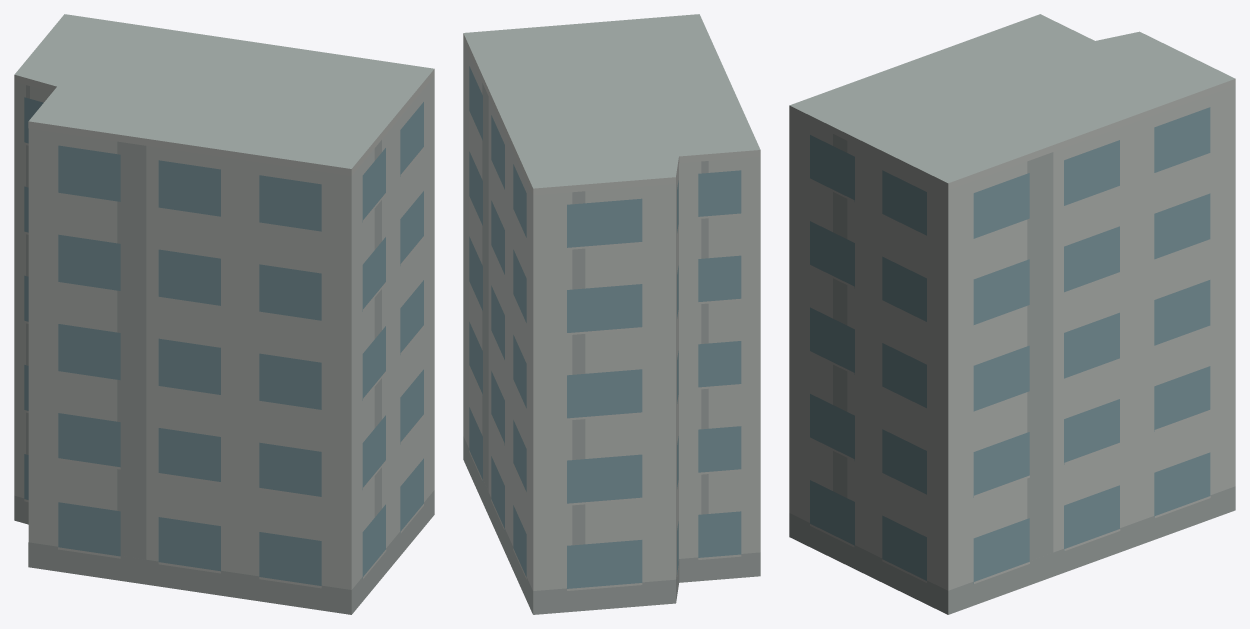
The model's file is residential-4c5bf3e3-13e4-4615-8bed-b4331600ca7f.glb.
3 views of the same model, side by side, from view 1: azimuth 30°, elevation 25°; view 2: azimuth 150°, elevation 25°; view 3: azimuth 270°, elevation 25° (orthographic). The views are drawn at different scales.
Visible parts, largest first — view 1: residential-4c5bf3e3-13e4-4615-8bed-b4331600ca7f.tmp; view 2: residential-4c5bf3e3-13e4-4615-8bed-b4331600ca7f.tmp; view 3: residential-4c5bf3e3-13e4-4615-8bed-b4331600ca7f.tmp.
Part boxes in pixels (x1,y1,x2,y2): residential-4c5bf3e3-13e4-4615-8bed-b4331600ca7f.tmp: (14, 14, 434, 614); residential-4c5bf3e3-13e4-4615-8bed-b4331600ca7f.tmp: (463, 14, 760, 614); residential-4c5bf3e3-13e4-4615-8bed-b4331600ca7f.tmp: (789, 14, 1235, 614).
Size of the model in its own units: 12.84 by 15.25 by 14.3.
